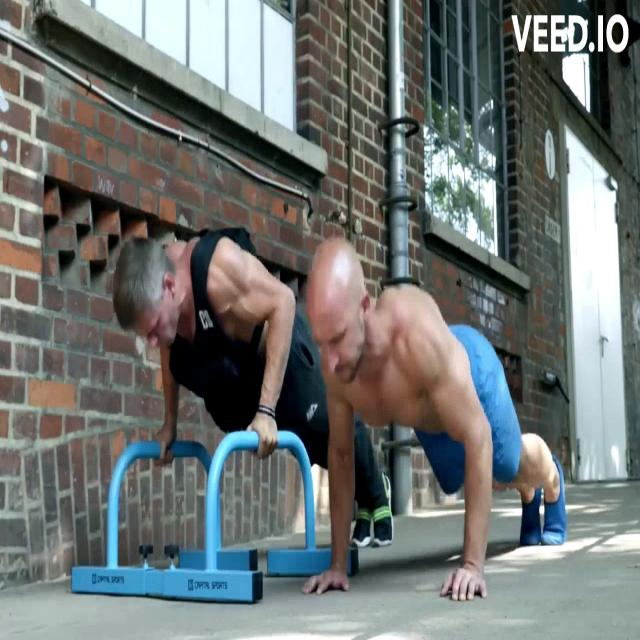Push up: (298, 214, 580, 618), (102, 167, 298, 469)
